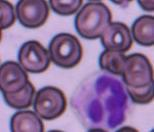N: (70, 70, 134, 130)
